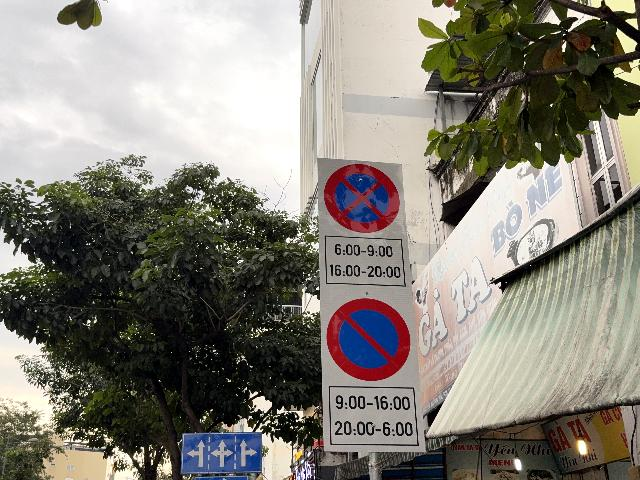cam-do-xe: (326, 297, 411, 382)
cam-dung-va-do-xe: (323, 165, 400, 233)
